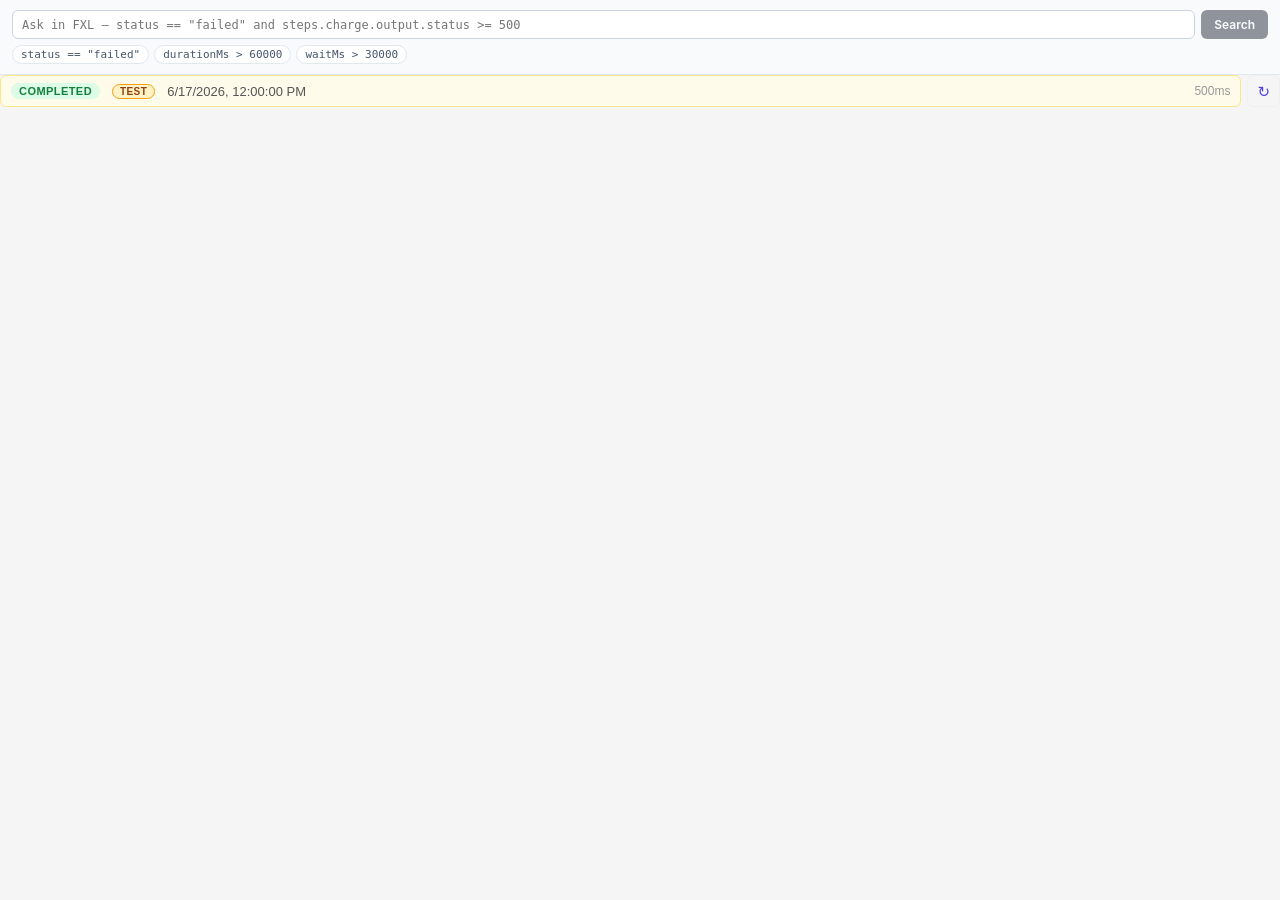
Scenario: ExecutionHistory dry-run (test) badge › labels a dry-run replay confirmation as a "test" run
Expected: the text "Test" is shown, [112,84,155,98]
Step 1. Click the button named "Replay this run" → (1264, 91), box [1247,75,1279,107]
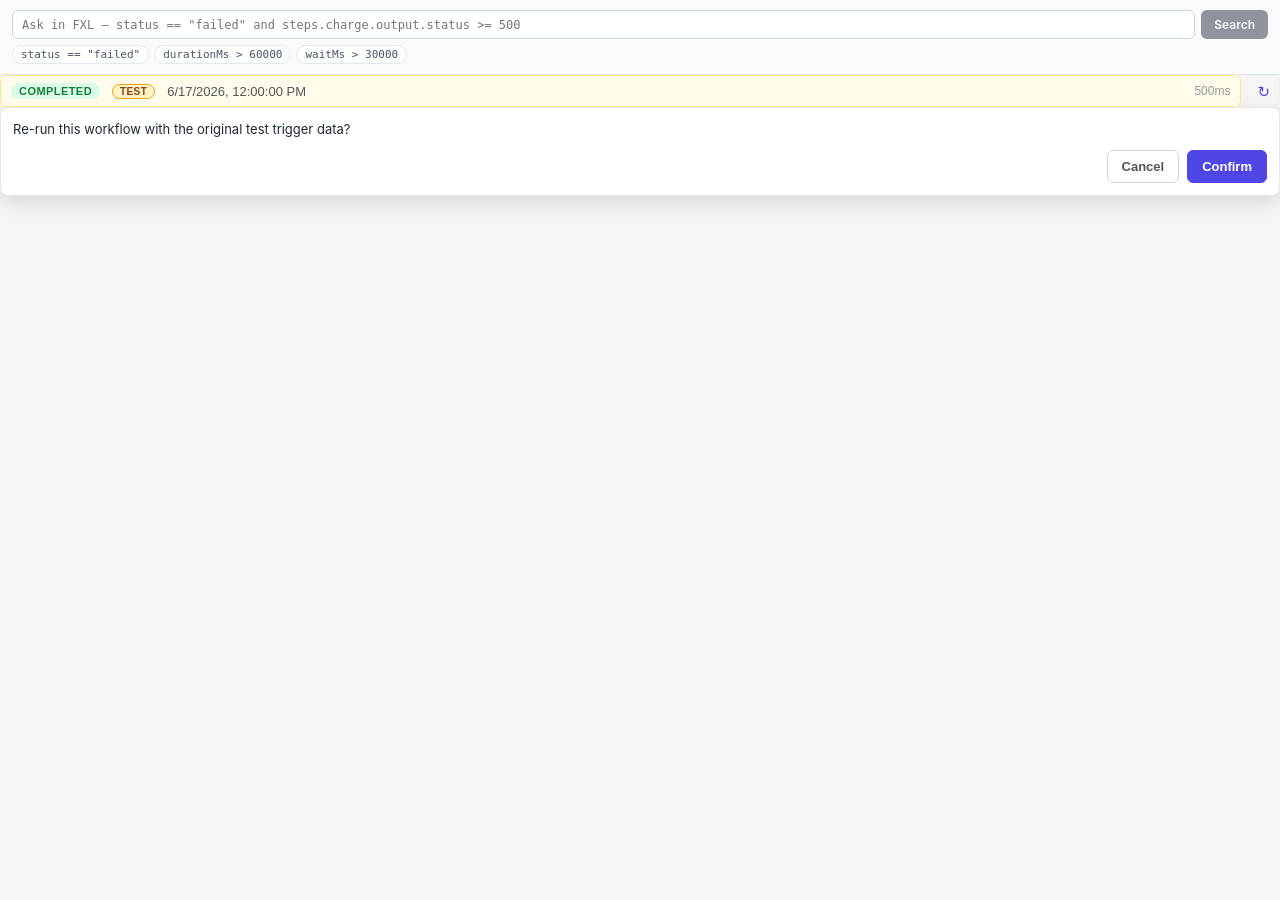
Expected: the dialog shows "Re-run this workflow with the original test trigger data?", [0,107,1279,196]
